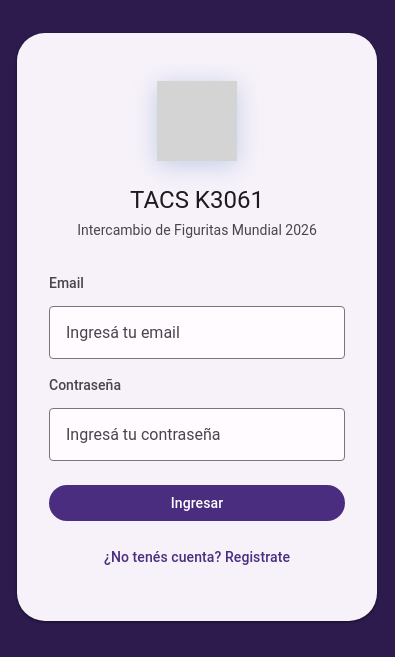
Scenario: LoginPage — validación cliente › email mal formado muestra error
The width and height of the screenshot is (395, 657).
Type "no-es-email" into the field with placeholder "Ingresá tu email" at point(197, 332), box [49, 306, 345, 359]
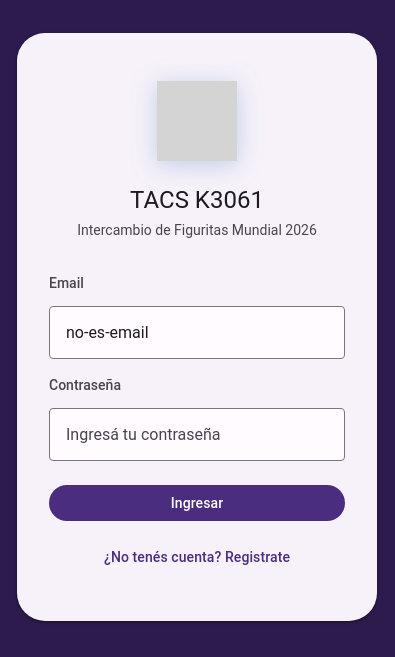
Type "secreto" into the password field with placeholder "Ingresá tu contraseña" at point(197, 434), box [49, 408, 345, 461]
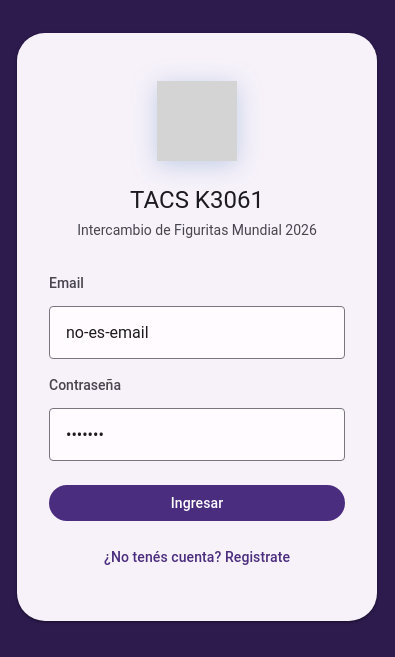
Click the button "Ingresar" at point(197, 503), box [49, 485, 345, 521]
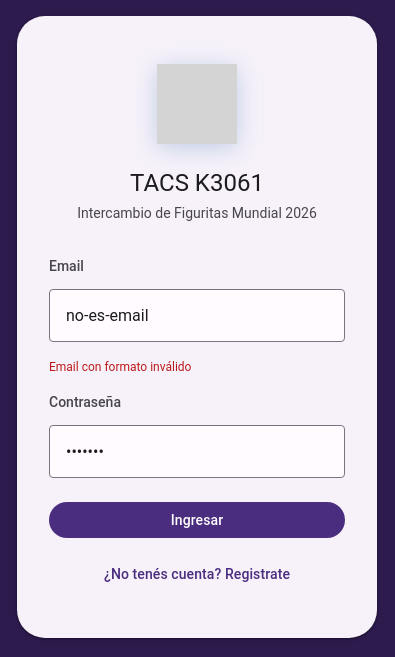
Now the text "Email con formato inválido" is shown, box [49, 360, 191, 374]
